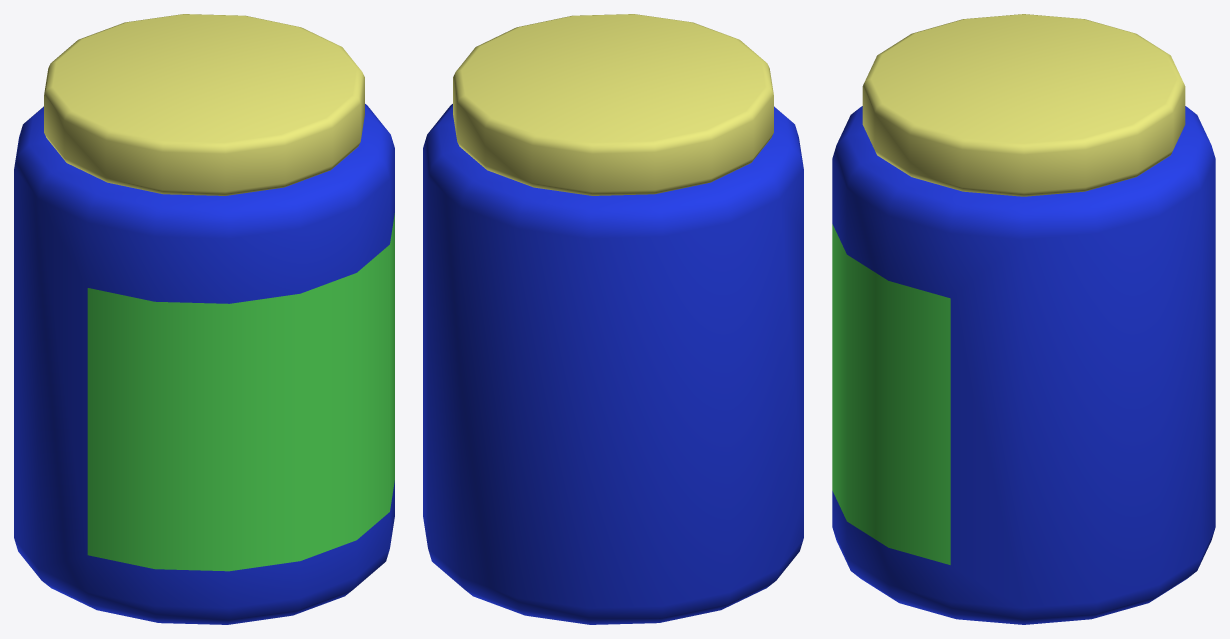
The model's file is Jar.fbx.
The picture shows the model from 3 angles, left to right: view 1: azimuth 30°, elevation 25°; view 2: azimuth 150°, elevation 25°; view 3: azimuth 270°, elevation 25°; orthographic projection.
Visible parts, largest first — view 1: Jar; view 2: Jar; view 3: Jar.
Boxes of the visible parts, x1,y1,x2,y2 form: Jar: [14, 14, 394, 624]; Jar: [423, 14, 803, 624]; Jar: [832, 14, 1215, 624].
Bounding box in the file's own units: 2 × 2.74 × 2.
